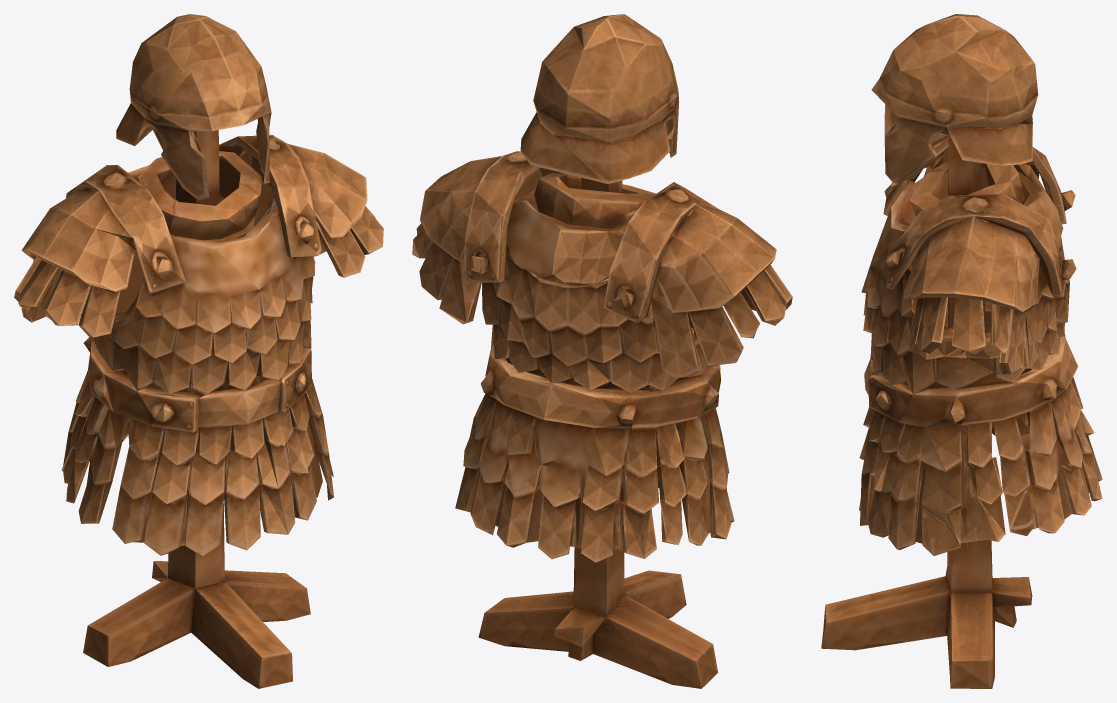
File: saul-armor.glb
3 views of the same model, side by side, from view 1: azimuth 30°, elevation 25°; view 2: azimuth 150°, elevation 25°; view 3: azimuth 270°, elevation 25° (orthographic). The views are drawn at different scales.
Size of the model in its own units: 1.15 by 1.9 by 0.7813.
1 material, 1 textured.
